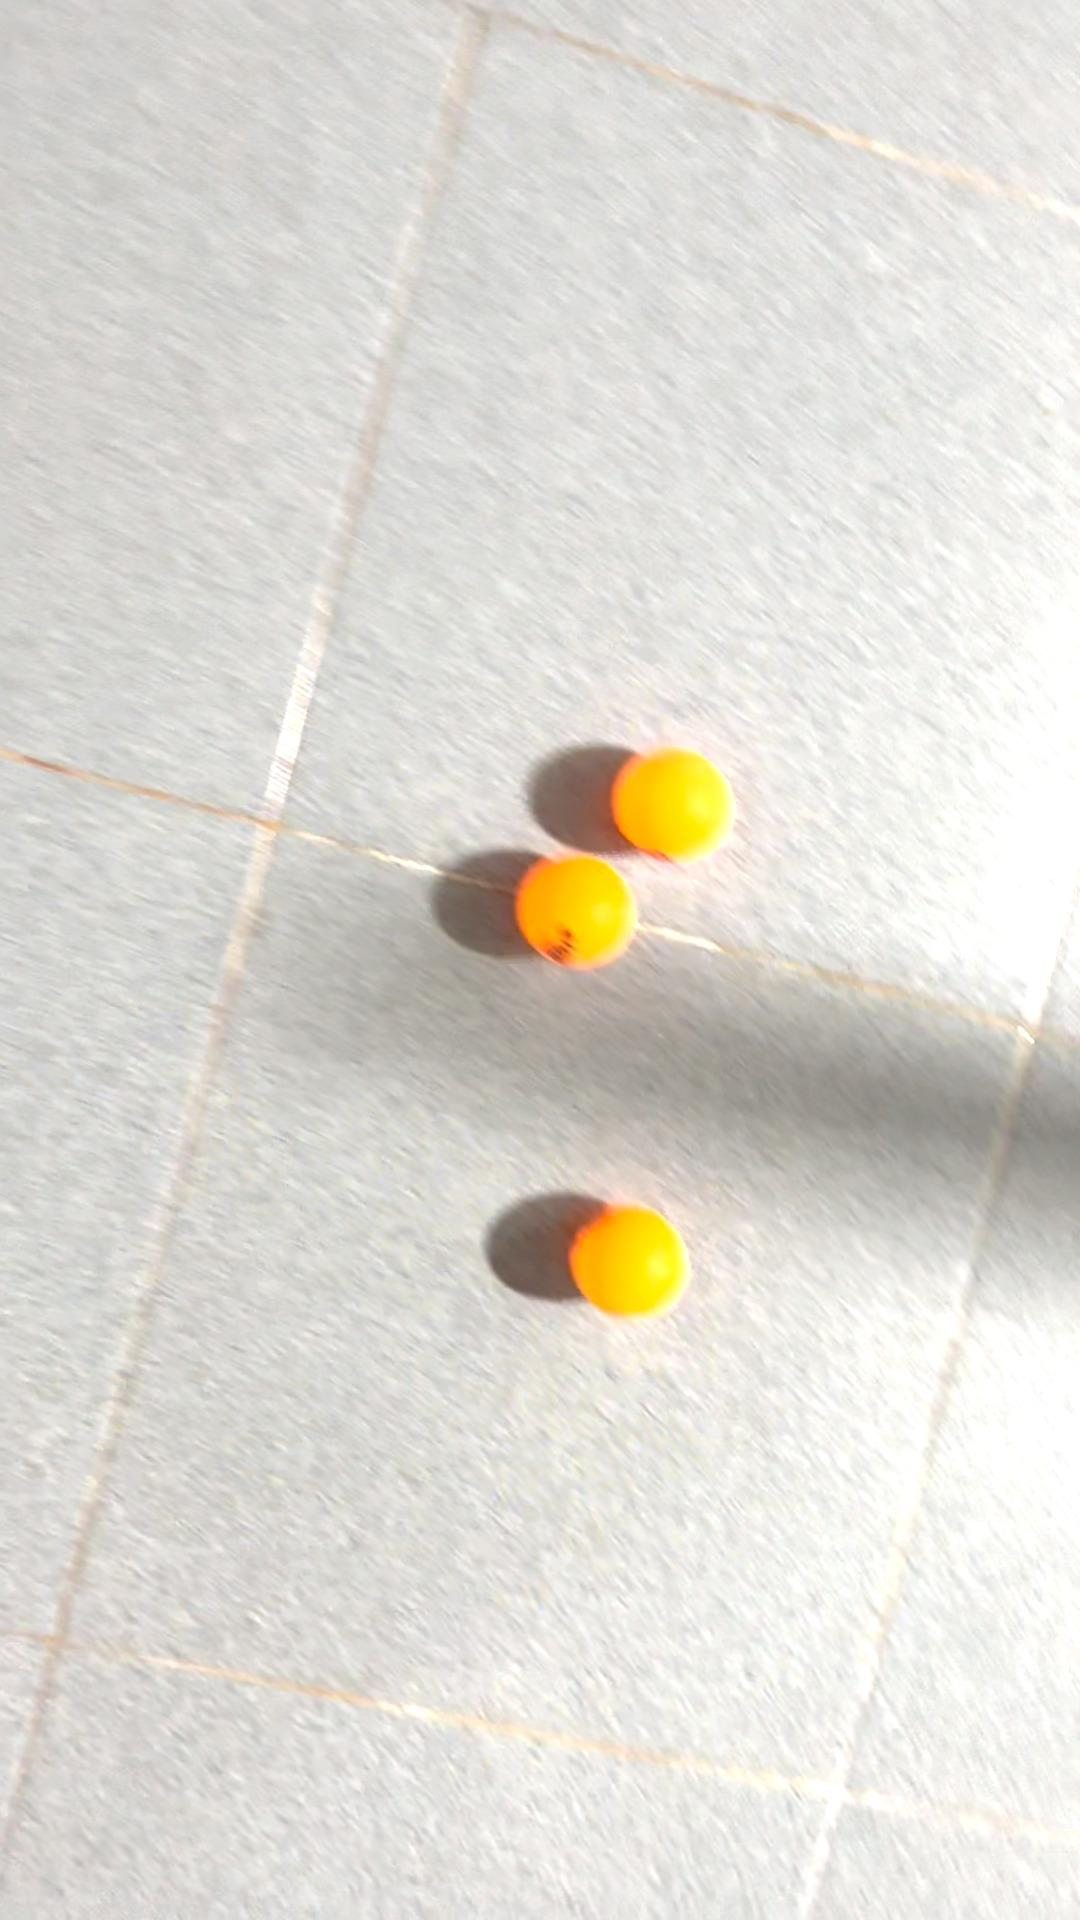oball: (554, 1197, 720, 1331), (611, 745, 757, 877), (521, 837, 650, 975)
